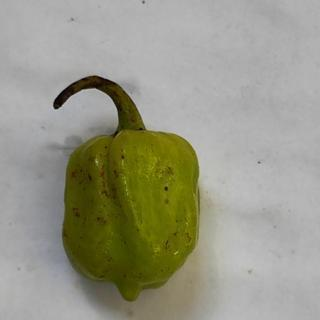Fly-bites: (109, 169, 123, 180), (160, 182, 172, 193), (162, 238, 173, 250), (85, 172, 94, 184), (117, 153, 128, 161), (74, 211, 81, 219), (96, 215, 102, 224)
